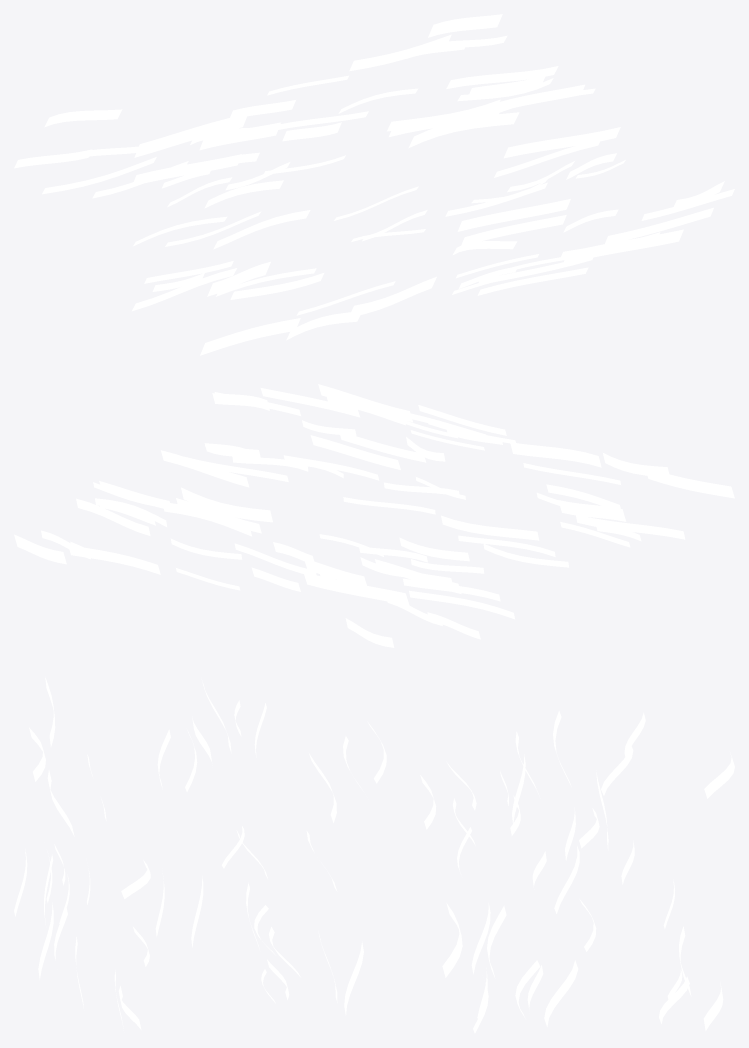
The model's file is spindrift.glb.
3 renders of one model, top to bottom at view 1: azimuth 30°, elevation 25°; view 2: azimuth 150°, elevation 25°; view 3: azimuth 270°, elevation 25°, orthographic. The views are drawn at different scales.
Bounding box in the file's own units: 58.94 × 1.28 × 51.26.
1 material, 1 textured.
